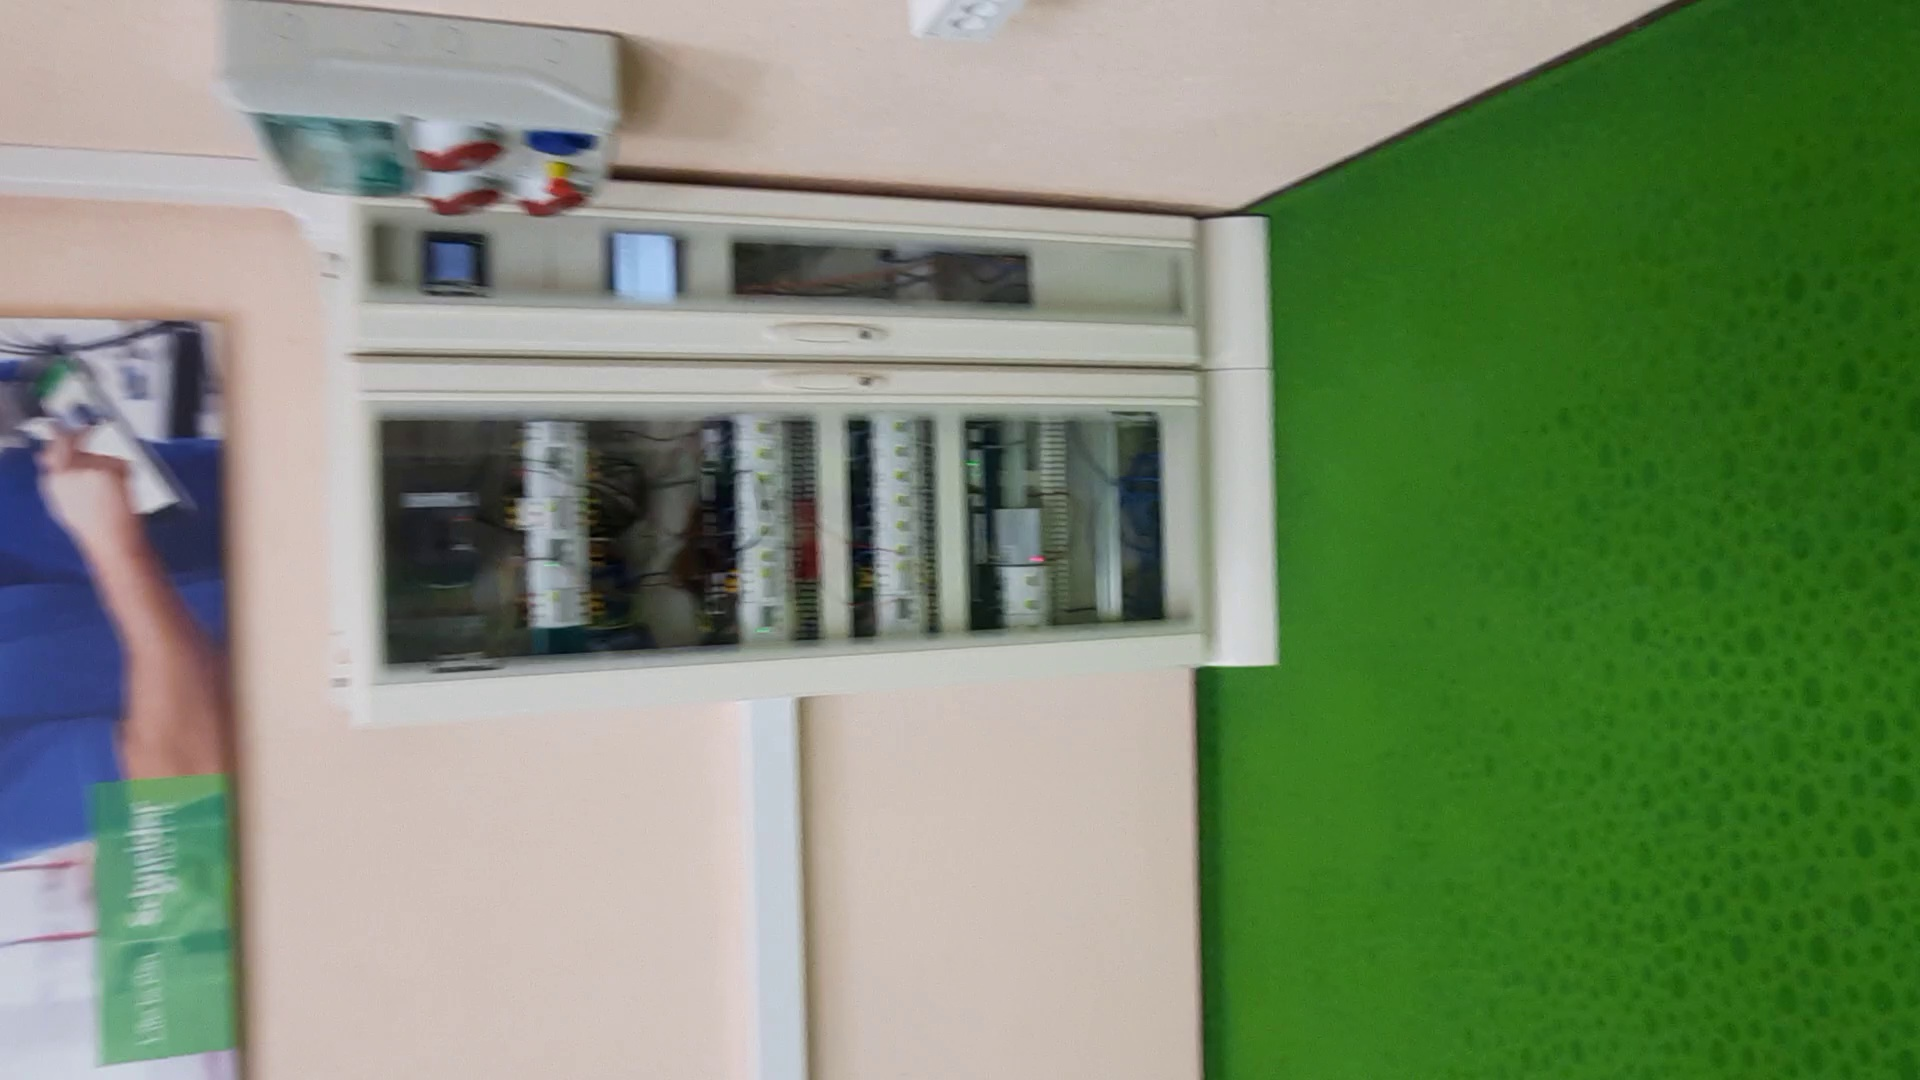stand1: (345, 214, 1276, 731)
